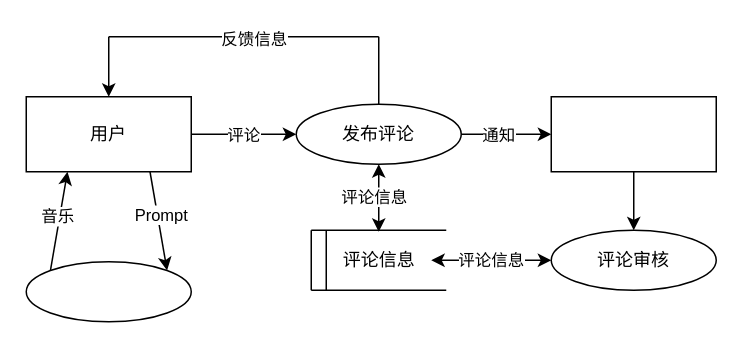
The diagram is 743 pixels wide and 348 high, and some of its shapes have lost their labels. The shapes that lost their labels are listed below. From the top down, each one's centre as x and y in pixels, then its label:
(633,133): 管理员
(108,291): AI 音乐生成
